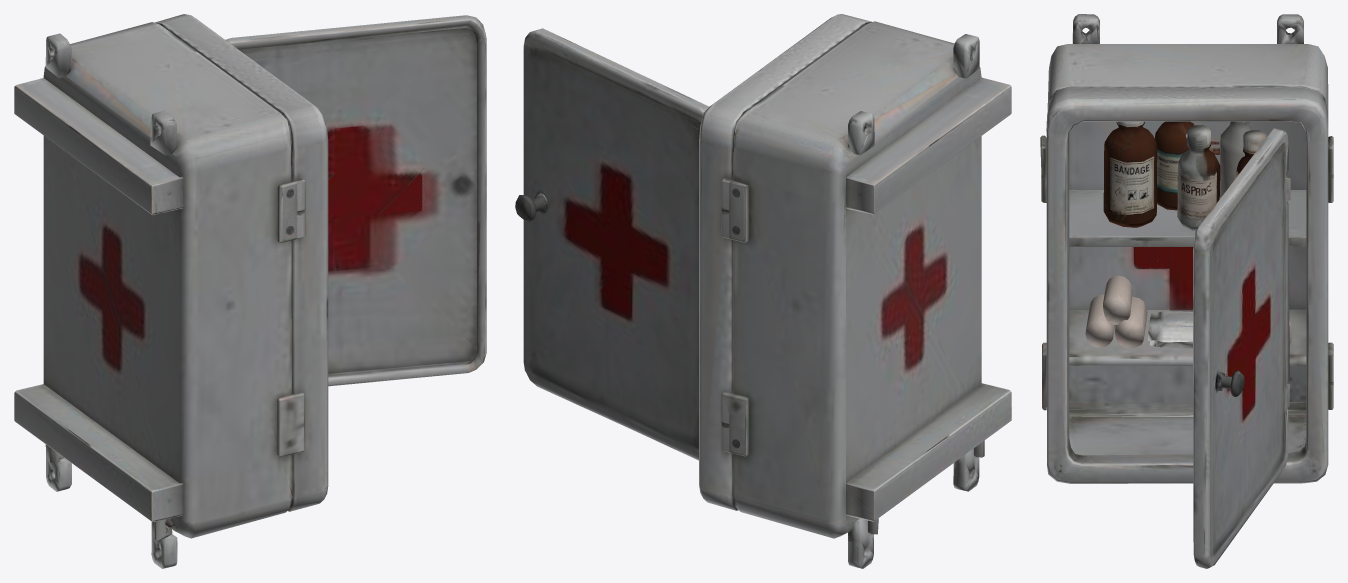
Rendered from medcab_open.glb.
The picture shows the model from 3 angles, left to right: view 1: azimuth 30°, elevation 25°; view 2: azimuth 150°, elevation 25°; view 3: azimuth 270°, elevation 25°; orthographic projection. The views are drawn at different scales.
Parts seen in each view (by area): view 1: medcab_open; view 2: medcab_open; view 3: medcab_open.
Part boxes in pixels (x1,y1,x2,y2): medcab_open: [14, 14, 486, 568]; medcab_open: [515, 14, 1011, 568]; medcab_open: [1040, 14, 1333, 568].
Size of the model in its own units: 1.15 by 1.2 by 0.7332.
Materials: 1 (1 with a texture image).
